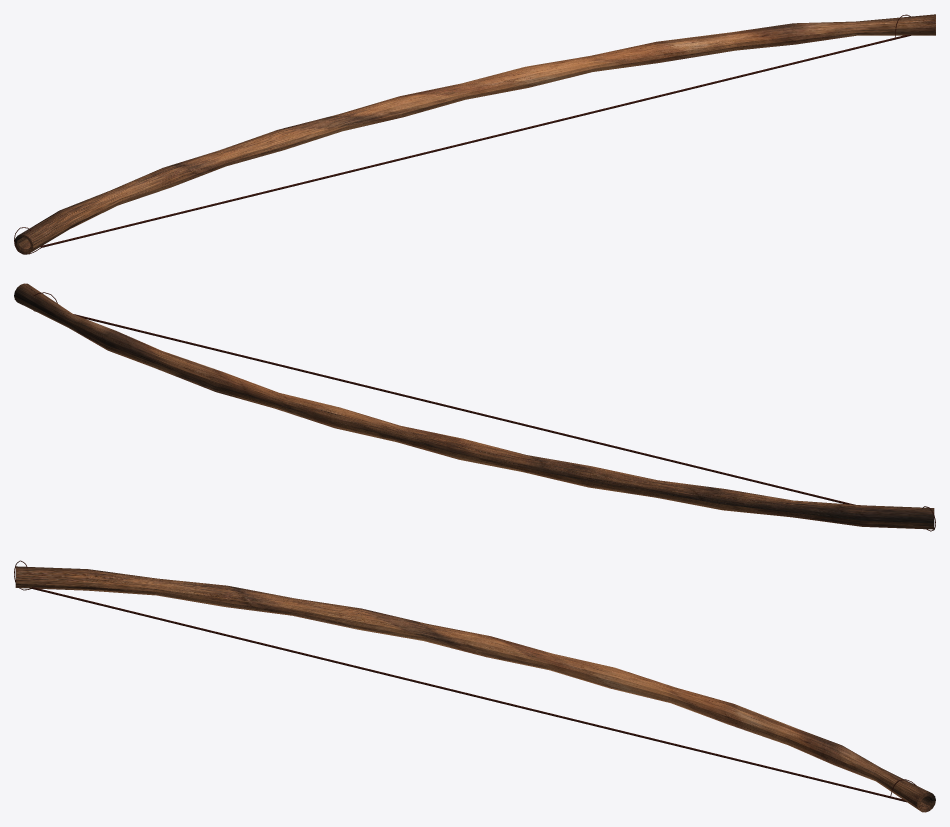
Rendered from tumank.glb.
3 renders of one model, top to bottom at view 1: azimuth 30°, elevation 25°; view 2: azimuth 150°, elevation 25°; view 3: azimuth 330°, elevation 25°, orthographic.
Visible parts, largest first — view 1: Cylinder, Cylinder.001; view 2: Cylinder, Cylinder.001; view 3: Cylinder, Cylinder.001.
Boxes of the visible parts, <box> form: Cylinder: <box>14,14,935,254</box>; Cylinder.001: <box>40,35,911,247</box>; Cylinder: <box>14,283,934,529</box>; Cylinder.001: <box>73,314,854,504</box>; Cylinder: <box>15,566,935,812</box>; Cylinder.001: <box>32,587,906,802</box>.
Bounding box in the file's own units: 1.97 × 0.0525 × 0.2222.
2 materials, 1 textured.
